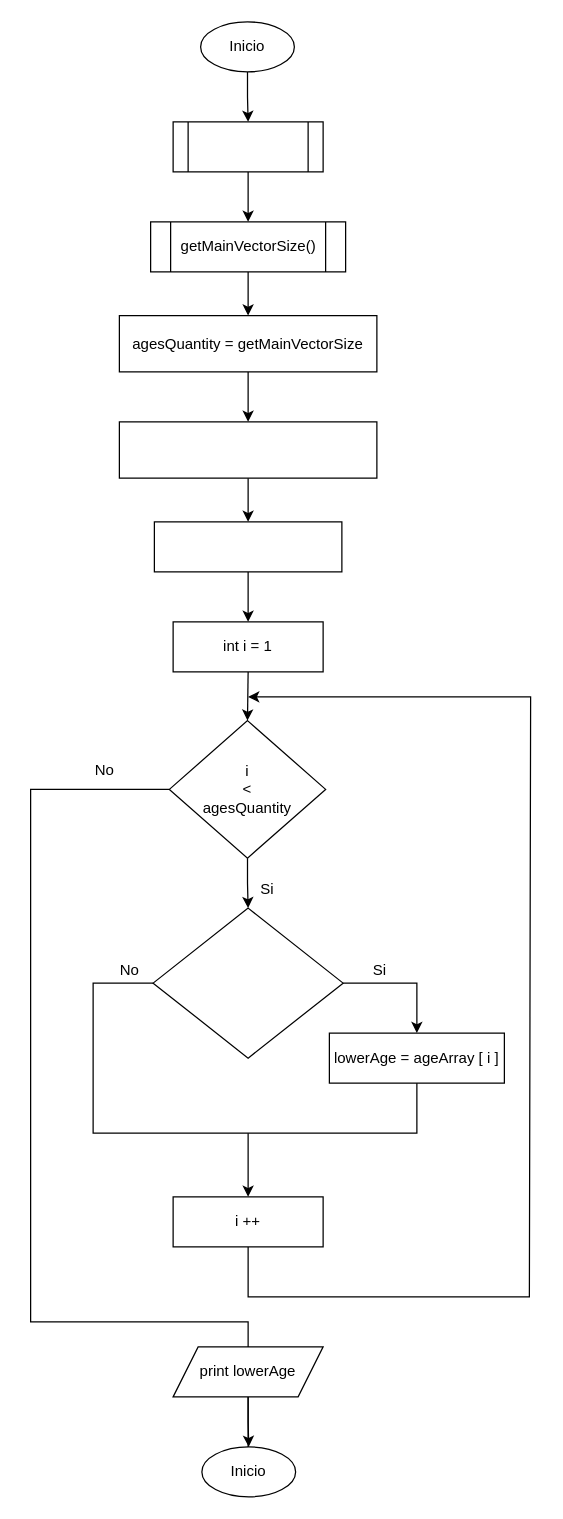
This 563x1519 diagram has some shape labels left out. The shapes that lost their labels are listed below. From the top down, each one's centre as x and y in pixels, then its label:
(x=247, y=146): fillMainVector()
(x=247, y=449): int* ageArray = fillMainVector(agesQuantity)
(x=247, y=546): lowerAge = ageArray [0]
(x=247, y=982): ageArray [ i ] < lowerAge
